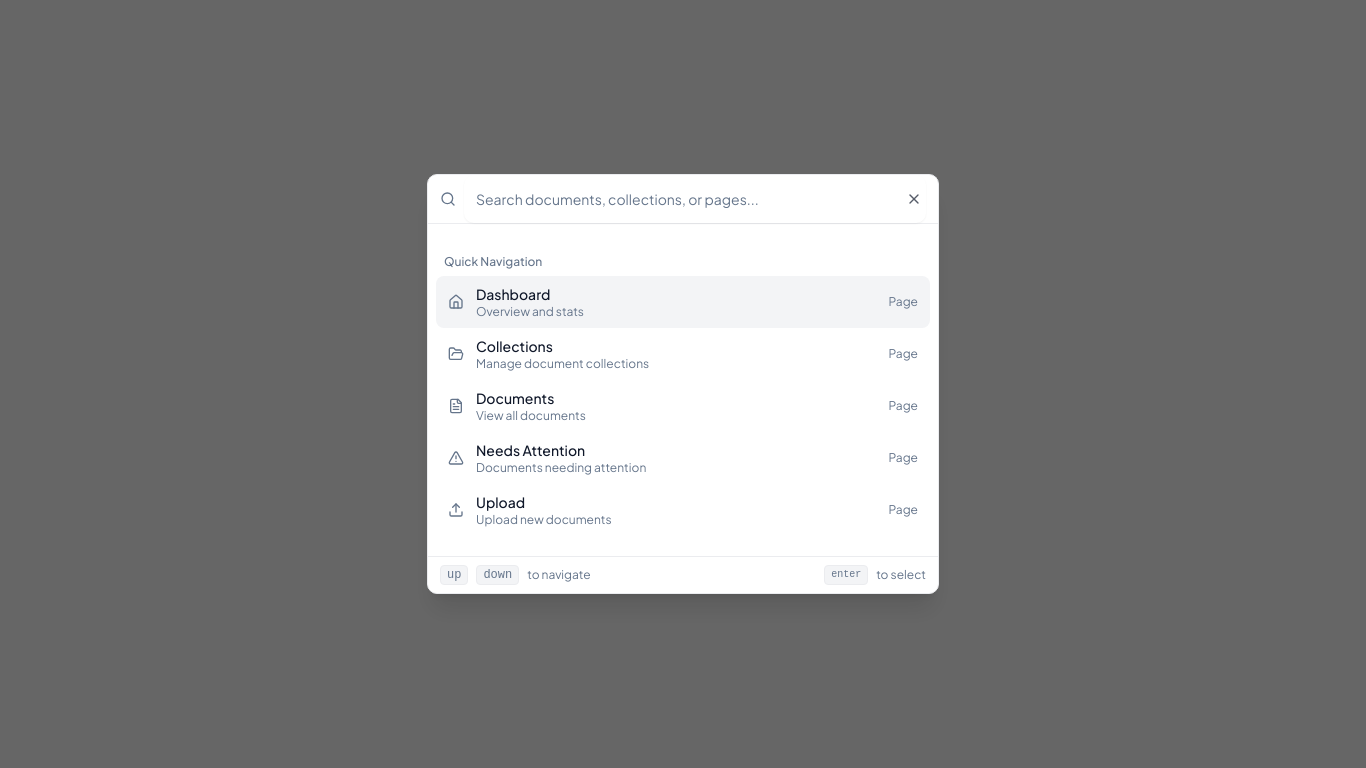
GlobalSearch › searching documents and collections › shows matching documents when searching
Type "Invoice" into the field with placeholder "Search documents, collections, or pages..." at (695, 199), box [464,175,926,223]
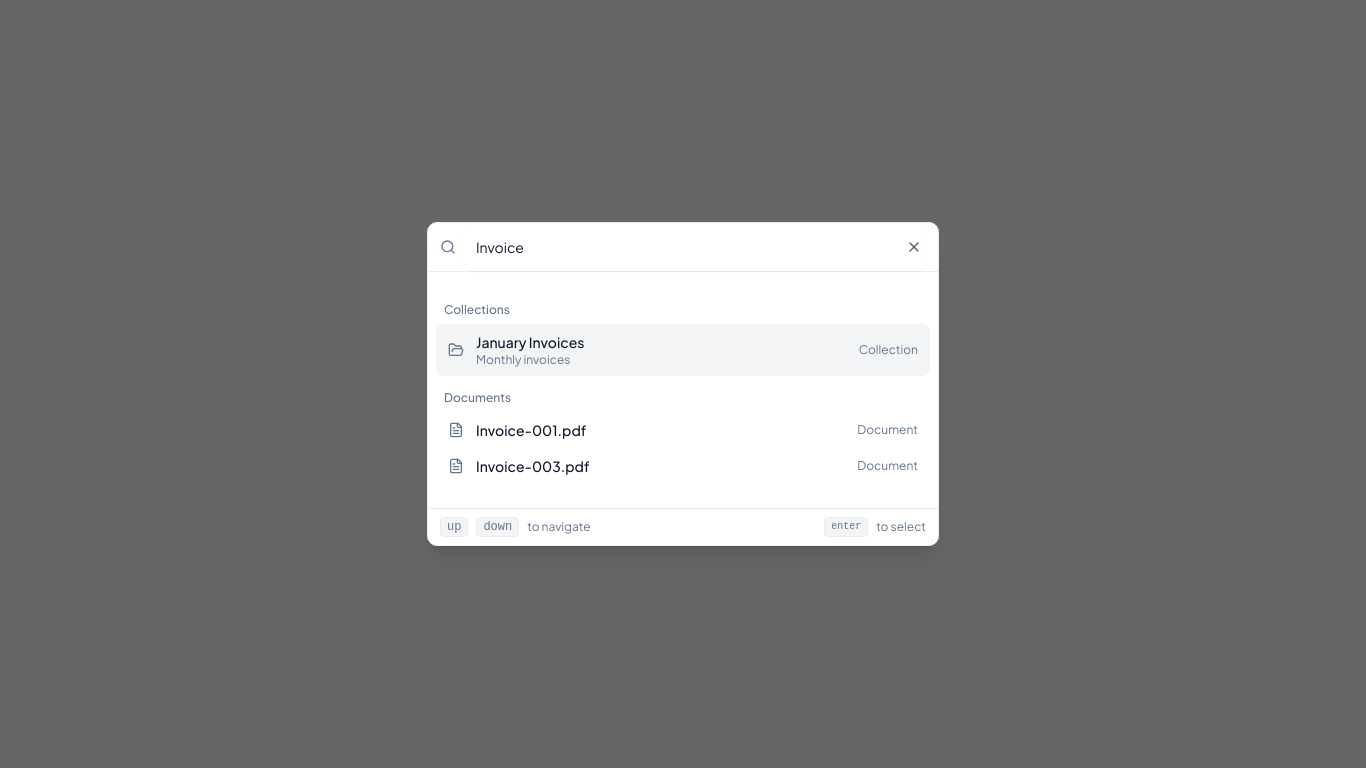
expect the text "Invoice-001.pdf" is shown: met, box [476,421,586,439]
expect the text "Invoice-003.pdf" is shown: met, box [476,457,590,475]
